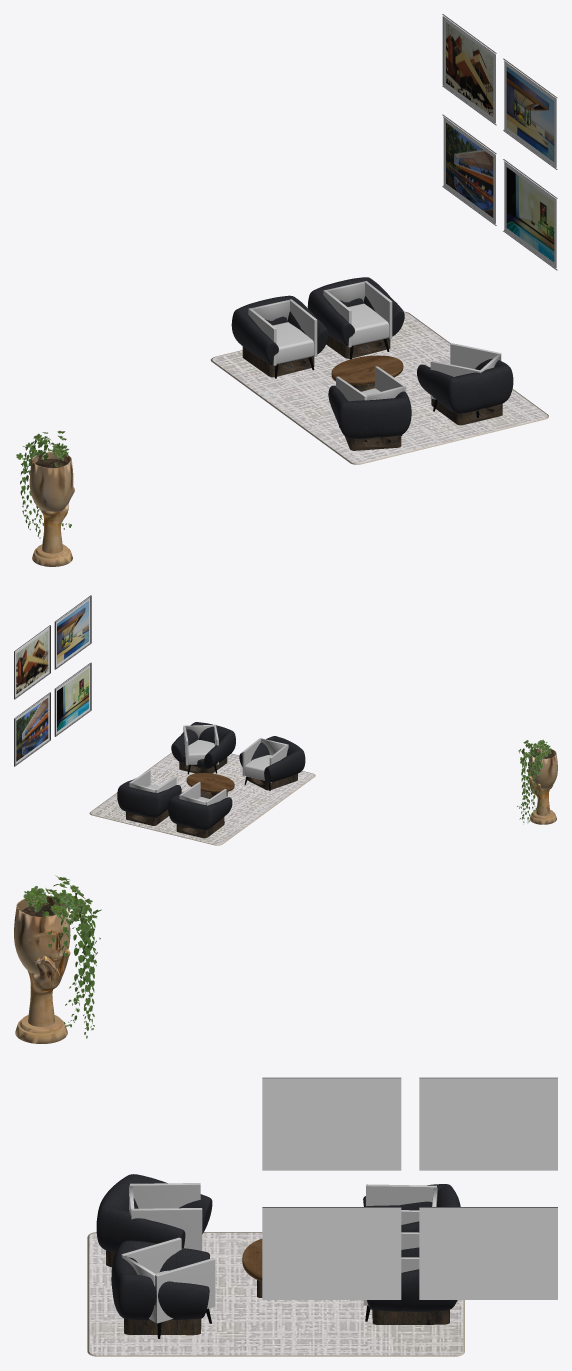
The model's file is Hall.gltf.
3 views of the same model, one above another, from view 1: azimuth 30°, elevation 25°; view 2: azimuth 150°, elevation 25°; view 3: azimuth 270°, elevation 25° (orthographic). The views are drawn at different scales.
Parts seen in each view (by area): view 1: H-sofa.003, H-Rug, H-sofa-B, H-pot, H-Frame, H-Pic-4, H-Pic-2, H-Pic-1, H-Pic-3, H-centerTable; view 2: H-sofa.003, H-Rug, H-sofa-B, H-pot, H-Frame, H-Pic-1, H-Pic-3, H-Pic-4, H-Pic-2, H-centerTable; view 3: H-Frame, H-Rug, H-sofa.003, H-pot, H-sofa-B, H-centerTable.
Boxes of the visible parts, <box> form: H-sofa.003: <box>231,277,513,450</box>; H-Rug: <box>210,311,548,464</box>; H-sofa-B: <box>248,281,501,441</box>; H-pot: <box>16,430,74,566</box>; H-Frame: <box>442,14,557,270</box>; H-Pic-4: <box>506,167,554,262</box>; H-Pic-2: <box>506,67,554,161</box>; H-Pic-1: <box>446,22,493,117</box>; H-Pic-3: <box>446,123,493,217</box>; H-centerTable: <box>331,355,403,391</box>; H-sofa.003: <box>117,722,305,838</box>; H-Rug: <box>89,752,315,845</box>; H-sofa-B: <box>129,724,288,822</box>; H-pot: <box>517,739,557,824</box>; H-Frame: <box>14,595,91,766</box>; H-Pic-1: <box>16,630,48,693</box>; H-Pic-3: <box>16,698,48,761</box>; H-Pic-4: <box>57,668,88,731</box>; H-Pic-2: <box>57,601,88,664</box>; H-centerTable: <box>186,773,234,798</box>; H-Frame: <box>262,1077,557,1299</box>; H-Rug: <box>87,1232,464,1356</box>; H-sofa.003: <box>96,1174,460,1335</box>; H-pot: <box>14,875,101,1043</box>; H-sofa-B: <box>121,1183,437,1338</box>; H-centerTable: <box>242,1239,262,1297</box>.
Size of the model in its own units: 9.17 by 3.63 by 5.49.
